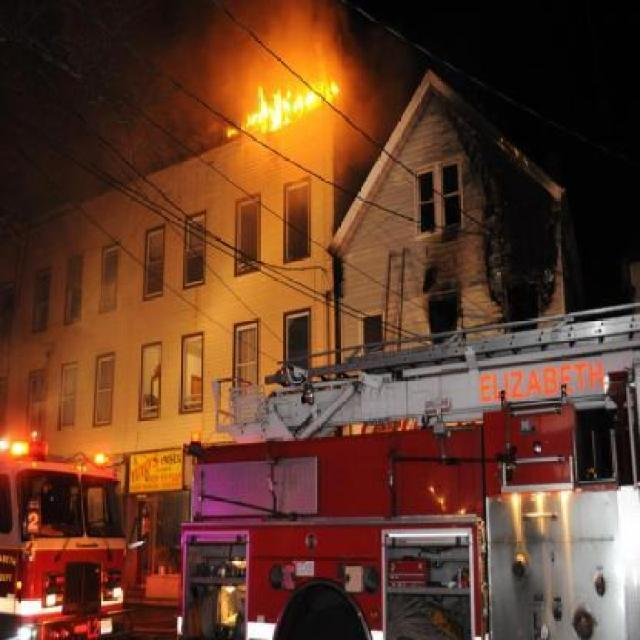Fire: (228, 49, 344, 152)
Smoke: (164, 0, 377, 78)
